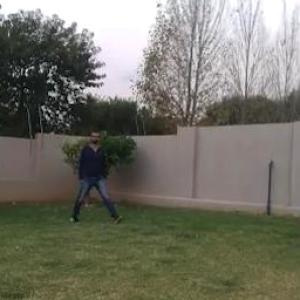follow: (78, 119, 104, 224)
